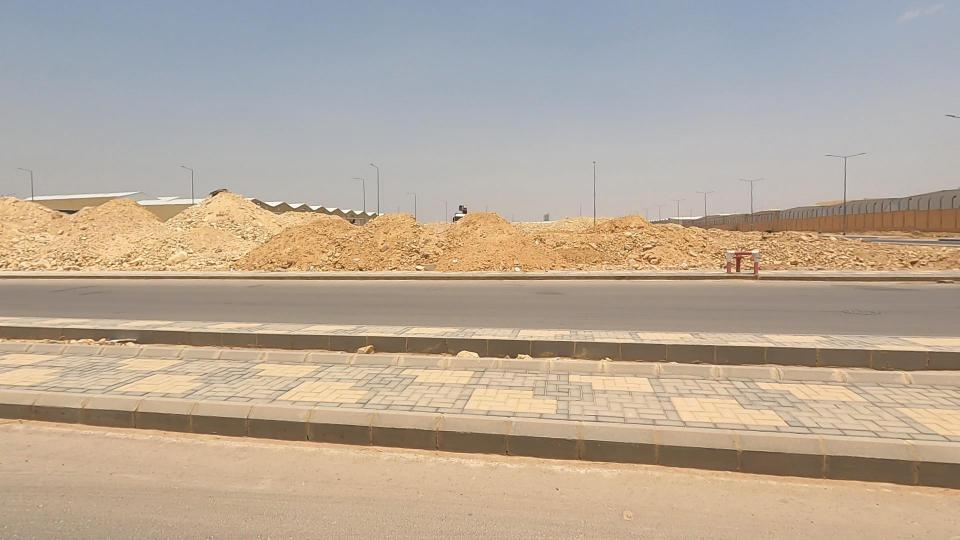SAND_ON_ROAD: (274, 185, 674, 309), (103, 176, 400, 301), (0, 188, 242, 285), (554, 199, 714, 282)
